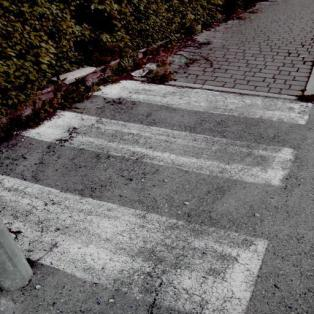Paso de Cebra: (8, 77, 313, 190)
